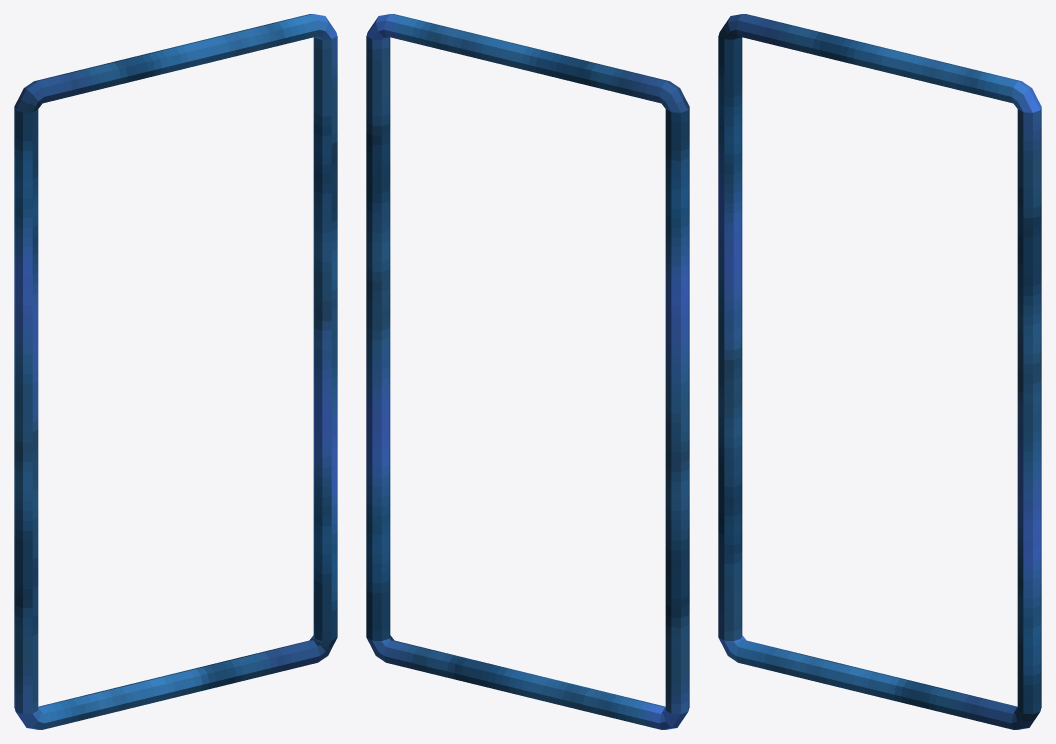
The model's file is PortalBorder.glb.
3 views of the same model, side by side, from view 1: azimuth 30°, elevation 25°; view 2: azimuth 150°, elevation 25°; view 3: azimuth 330°, elevation 25° (orthographic).
Parts seen in each view (by area): view 1: Cylinder.001; view 2: Cylinder.001; view 3: Cylinder.001.
Boxes of the visible parts, bbox=[...] form: Cylinder.001: bbox=[14, 14, 337, 729]; Cylinder.001: bbox=[366, 14, 689, 729]; Cylinder.001: bbox=[718, 14, 1041, 729].
Bounding box in the file's own units: 1.07 × 2.07 × 0.0714.
1 material, 1 textured.
